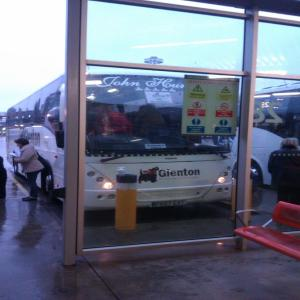Vehicle-registration-plate: (152, 199, 187, 209)
